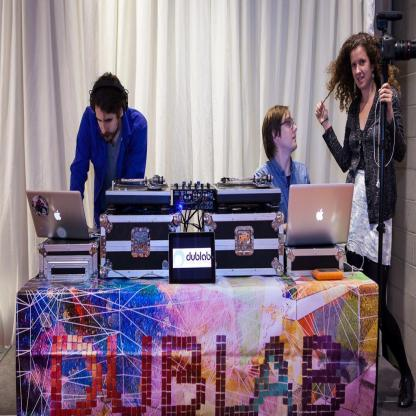board: (26, 184, 100, 262), (284, 184, 352, 248)
